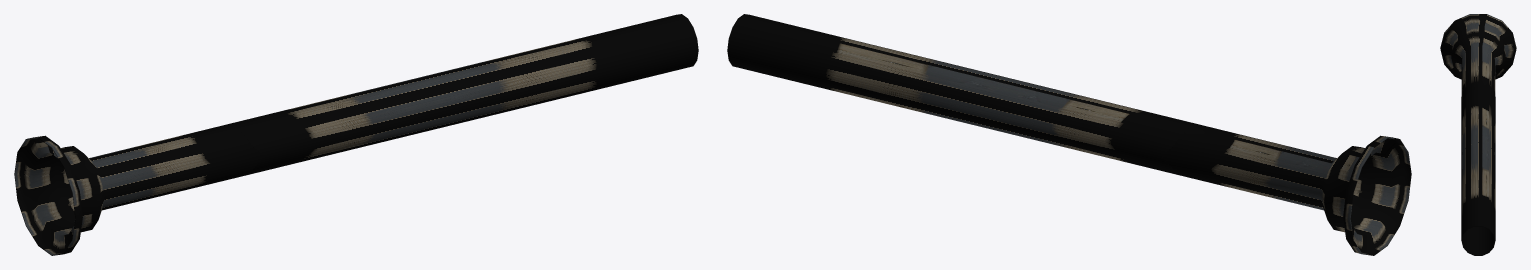
The model's file is Truba.FBX.
The picture shows the model from 3 angles, left to right: view 1: azimuth 30°, elevation 25°; view 2: azimuth 150°, elevation 25°; view 3: azimuth 270°, elevation 25°; orthographic projection. The views are drawn at different scales.
Visible parts, largest first — view 1: Trube0, Trube1; view 2: Trube0, Trube1; view 3: Trube0, Trube1.
Part boxes in pixels (bbox=[...]): Trube0: bbox=[229, 14, 698, 174]; Trube1: bbox=[14, 124, 263, 255]; Trube0: bbox=[727, 14, 1196, 174]; Trube1: bbox=[1162, 124, 1411, 255]; Trube0: bbox=[1461, 90, 1495, 255]; Trube1: bbox=[1440, 14, 1516, 109].
Bounding box in the file's own units: 6.99 × 1.13 × 1.16.
